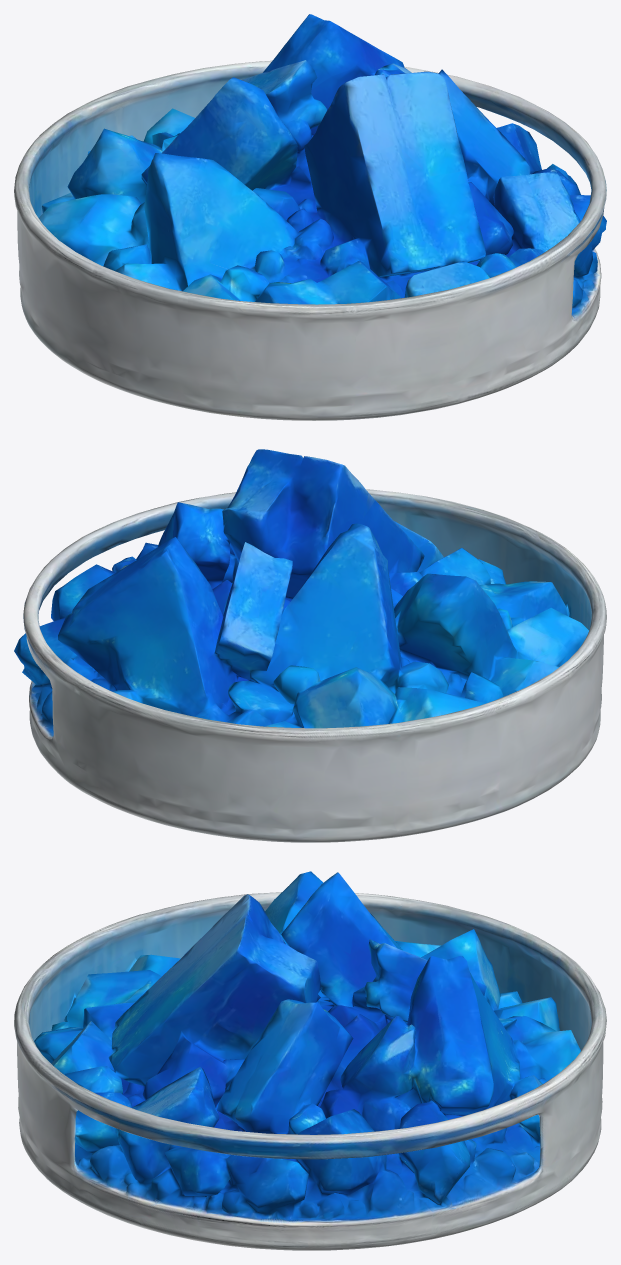
File: copper-sulfate-crystals.glb
3 renders of one model, top to bottom at view 1: azimuth 30°, elevation 25°; view 2: azimuth 150°, elevation 25°; view 3: azimuth 270°, elevation 25°, orthographic.
Visible parts, largest first — view 1: copper-sulfate-crystals; view 2: copper-sulfate-crystals; view 3: copper-sulfate-crystals.
Part boxes in pixels (left/top/right/bottom): copper-sulfate-crystals: left=14, top=14, right=606, bottom=420; copper-sulfate-crystals: left=14, top=449, right=606, bottom=842; copper-sulfate-crystals: left=14, top=871, right=606, bottom=1250.
Size of the model in its own units: 0.0997 by 0.0452 by 0.1.
Materials: 1 (1 with a texture image).
